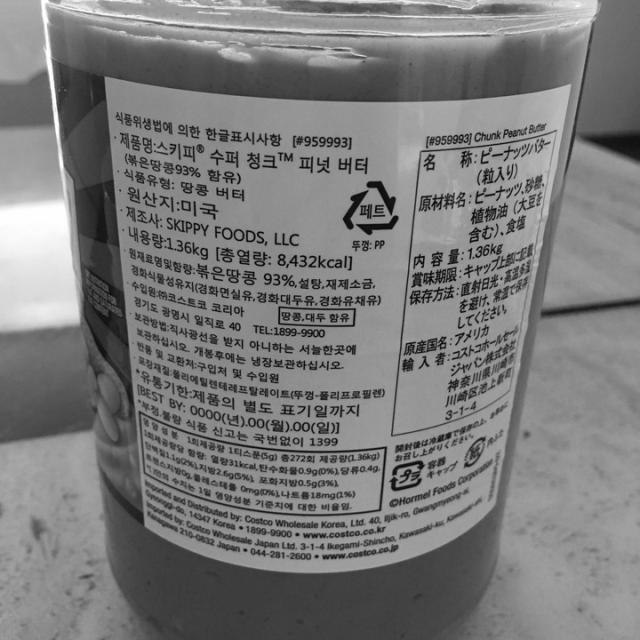Nutrition Label: (384, 131, 567, 439)
